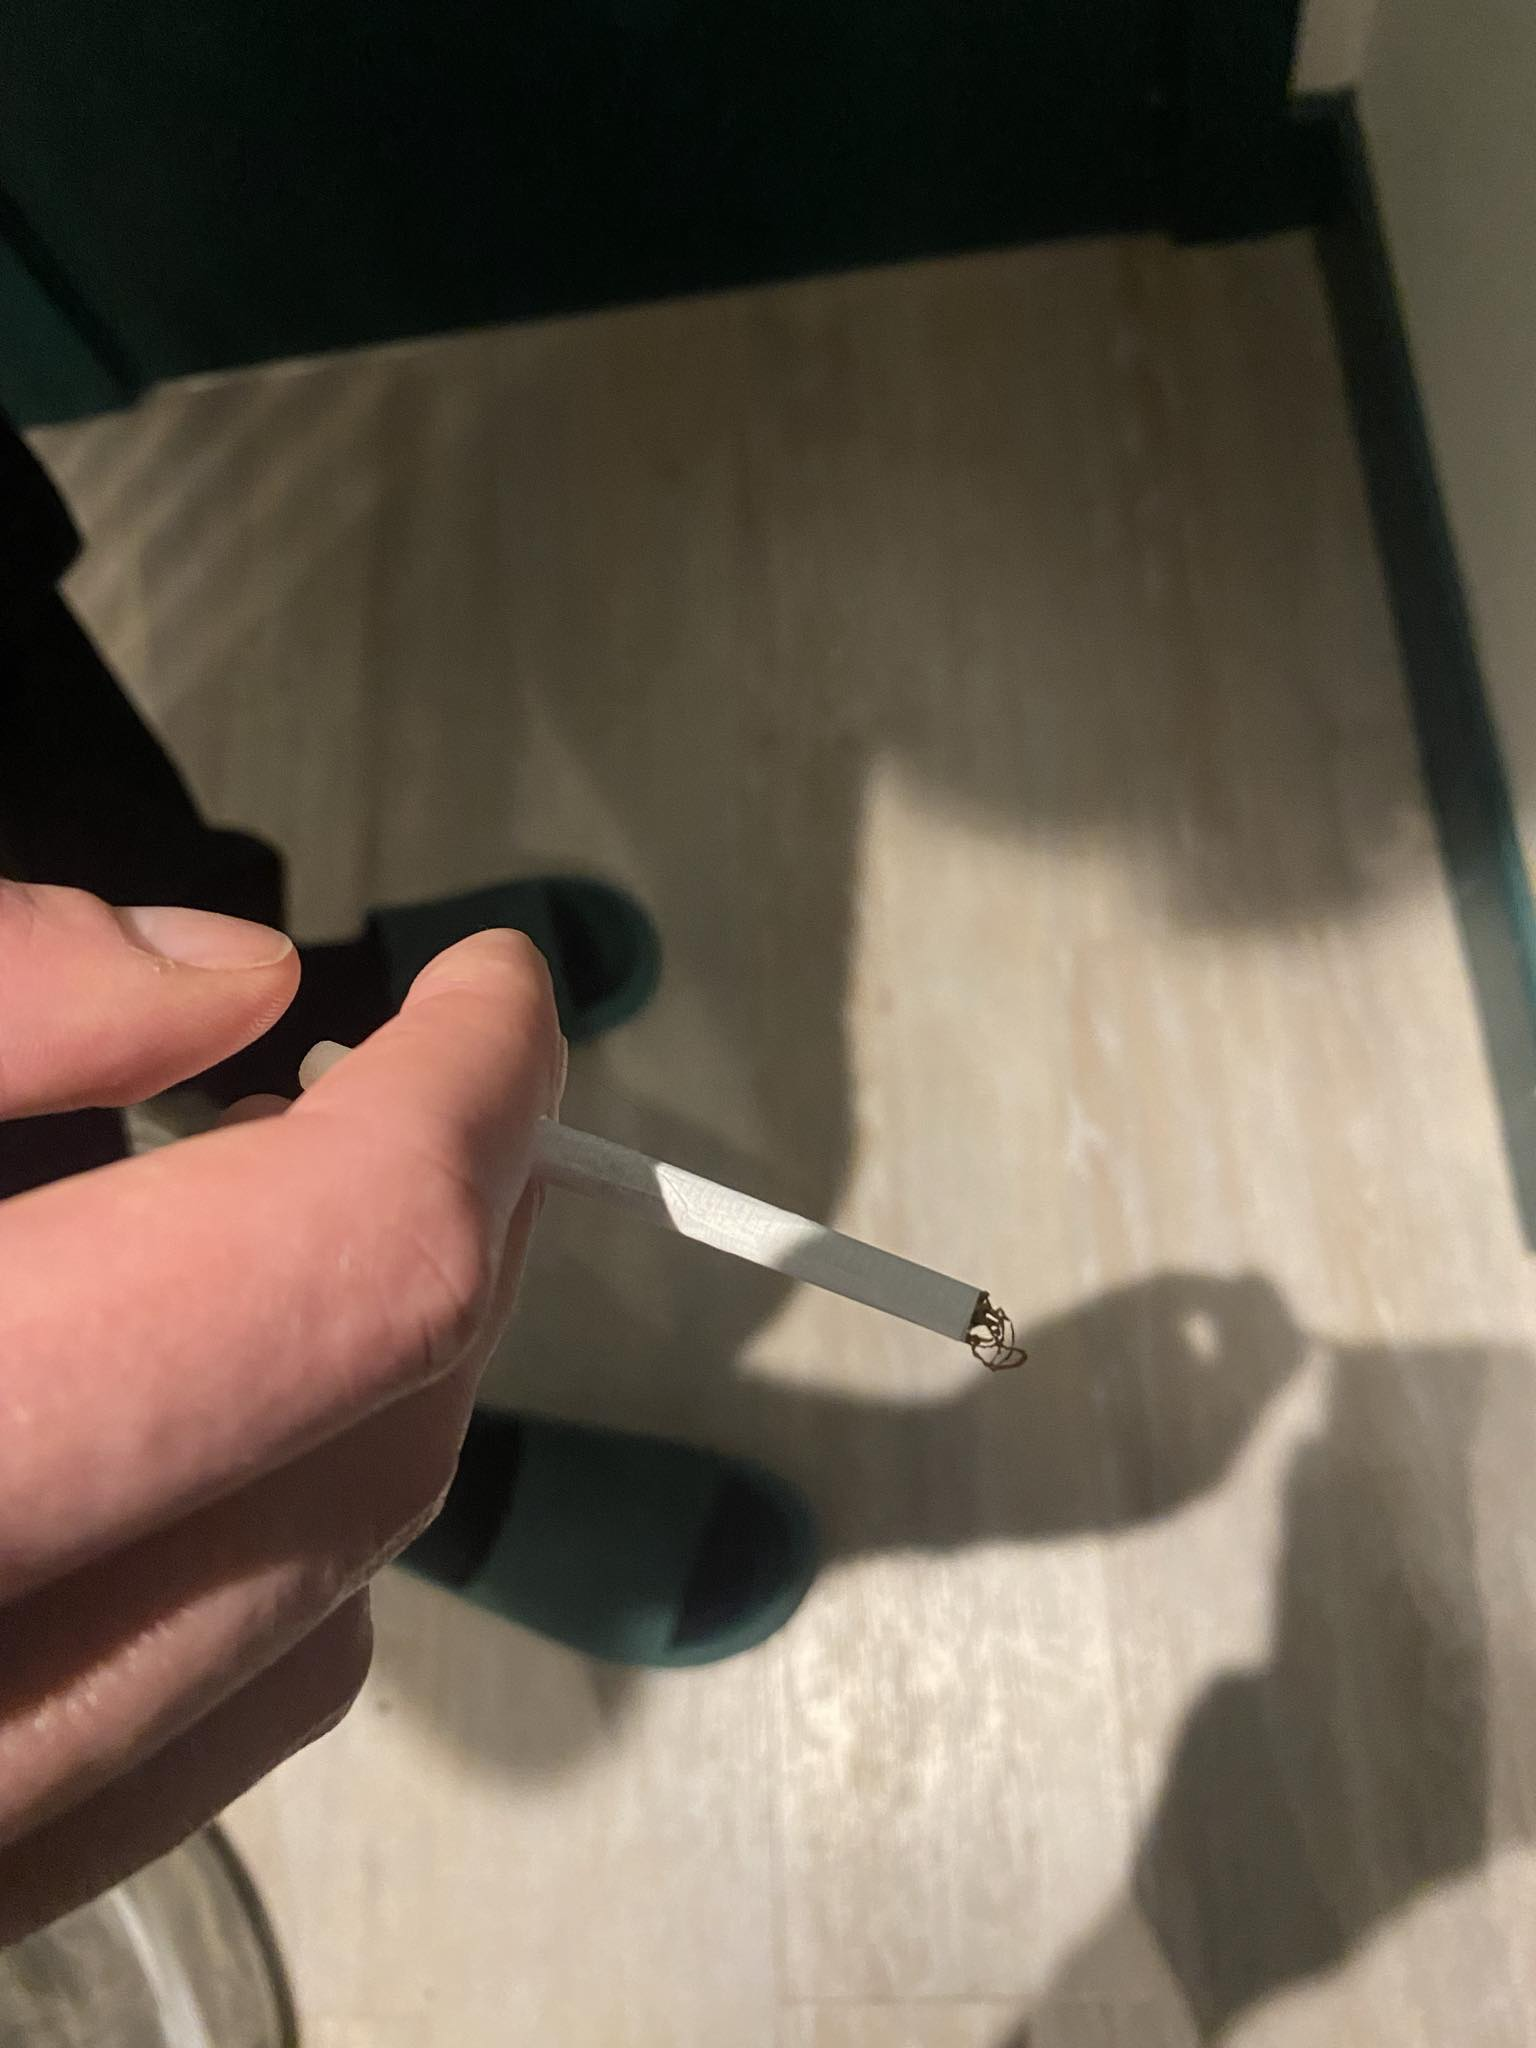Cigarette: (298, 1039, 1033, 1372)
